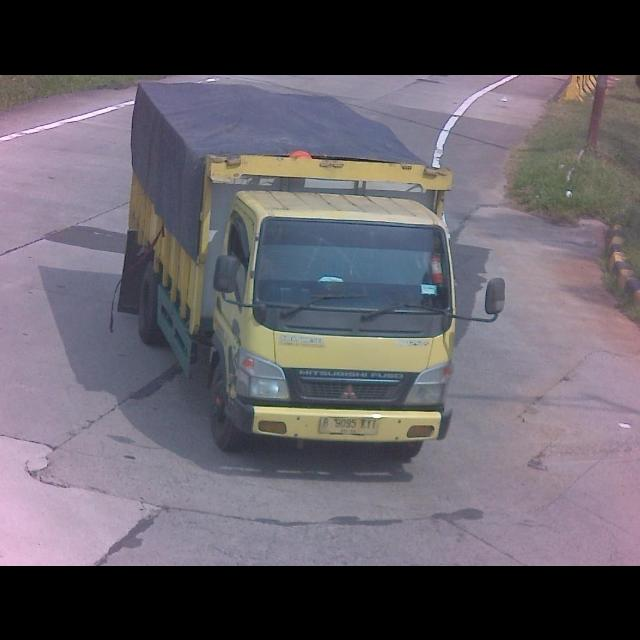plate: (318, 414, 380, 436)
